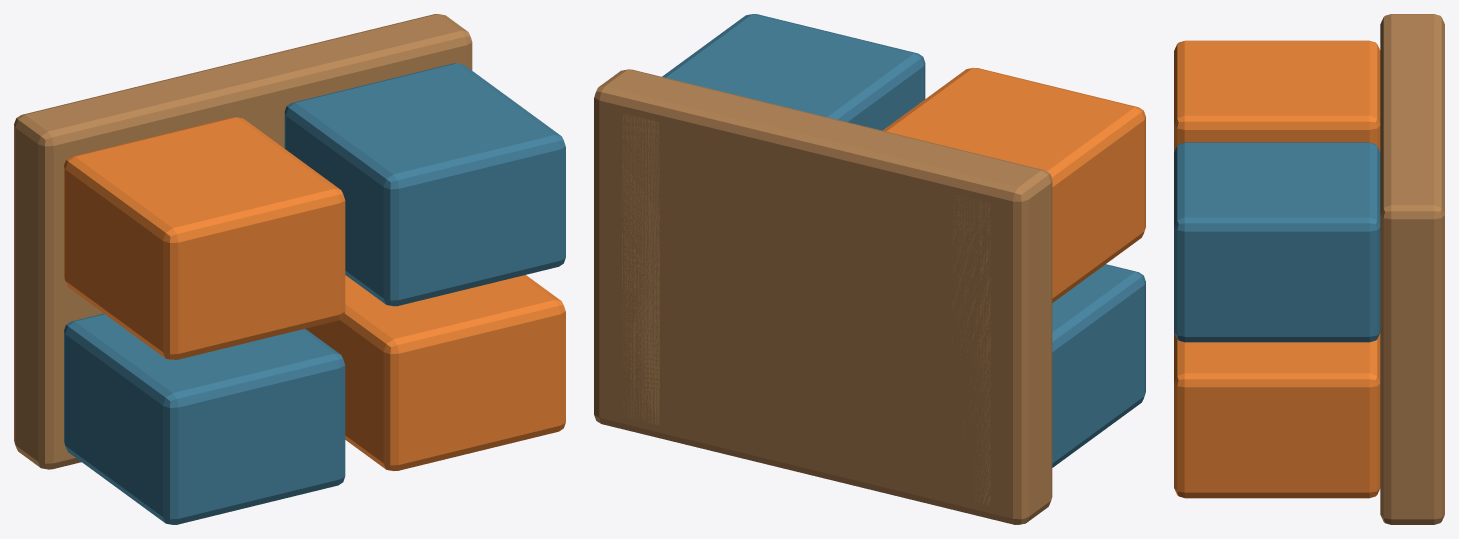
File: pallet_stack.glb
3 renders of one model, left to right at view 1: azimuth 30°, elevation 25°; view 2: azimuth 150°, elevation 25°; view 3: azimuth 270°, elevation 25°, orthographic. The views are drawn at different scales.
Visible parts, largest first — view 1: pallet_crate_2, pallet_crate_3, pallet_crate_0, pallet_deck, pallet_crate_1; view 2: pallet_deck, pallet_crate_2, pallet_crate_3, pallet_crate_0, pallet_runner_1, pallet_runner_0; view 3: pallet_crate_3, pallet_deck, pallet_crate_1, pallet_crate_2.
Part boxes in pixels (x1,y1,x2,y2): pallet_crate_2: (64,117,345,359); pallet_crate_3: (284,63,565,306); pallet_crate_0: (64,313,345,524); pallet_deck: (14,14,472,469); pallet_crate_1: (305,275,565,471); pallet_deck: (594,69,1052,524); pallet_crate_2: (883,67,1145,302); pallet_crate_3: (662,14,925,130); pallet_crate_0: (1052,264,1145,467); pallet_runner_1: (622,114,659,424); pallet_runner_0: (952,194,990,506); pallet_crate_3: (1174,142,1380,342); pallet_deck: (1380,14,1444,524); pallet_crate_1: (1174,332,1380,498); pallet_crate_2: (1174,40,1380,151).
Size of the model in its own units: 1.1 by 0.82 by 0.63.
